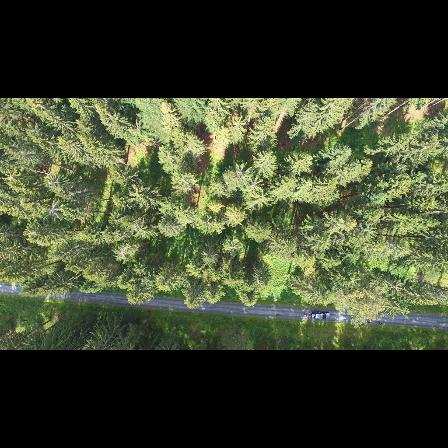Sick: (42, 195, 67, 225), (244, 173, 270, 193)
